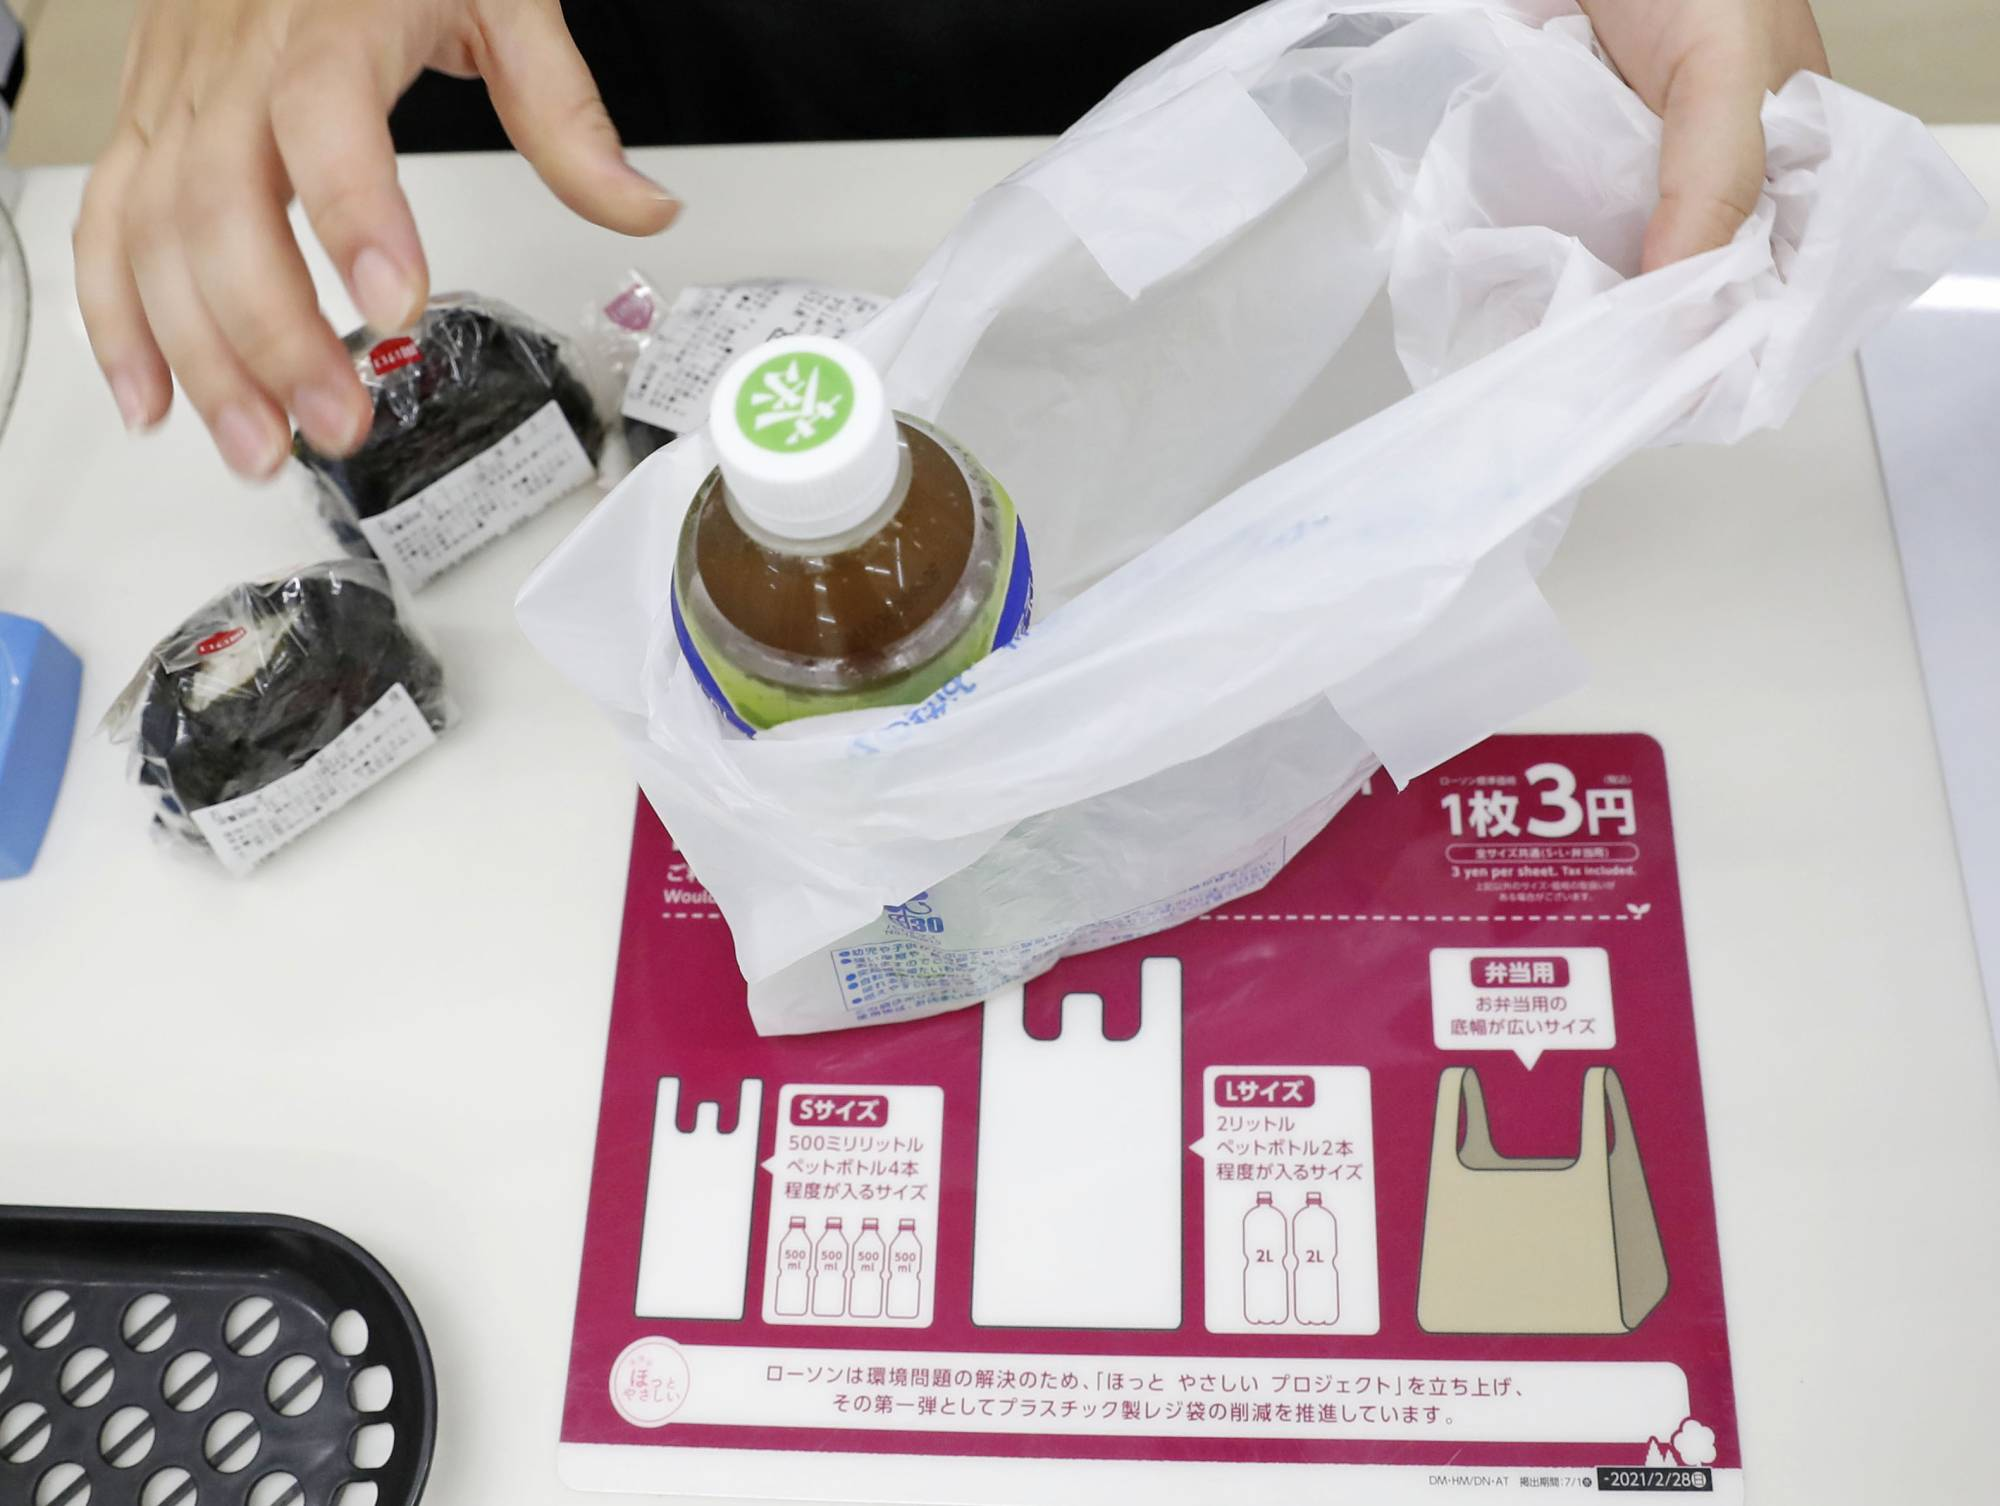plastic_bag: (487, 2, 2000, 1066)
